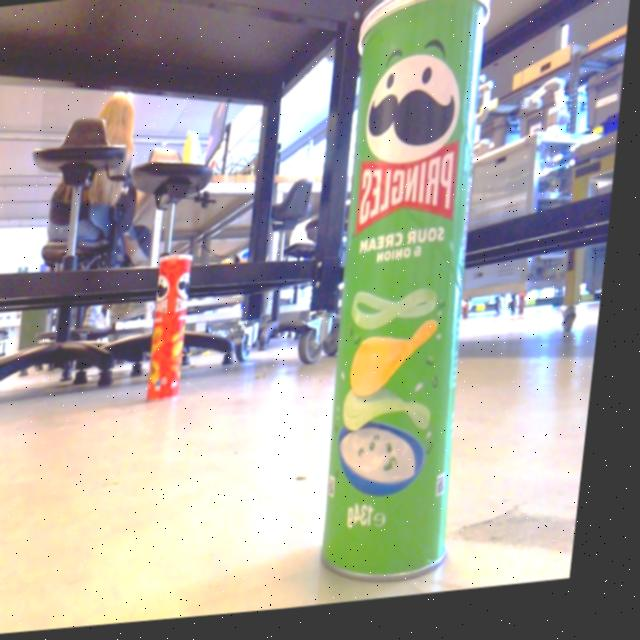greenpringles: (304, 0, 515, 605)
redpringles: (146, 250, 216, 409)
